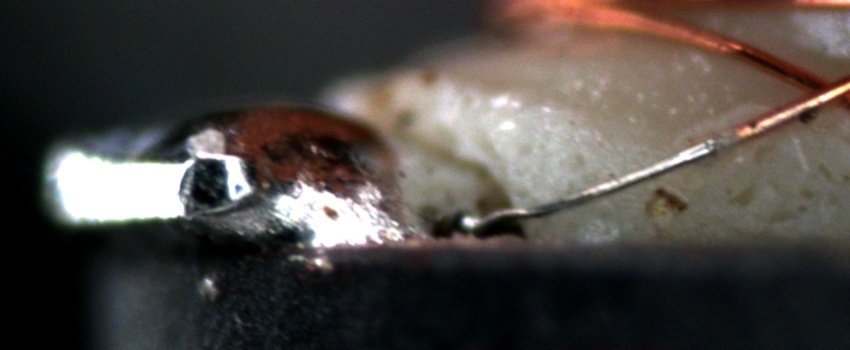CL: (779, 61, 848, 118)
TS: (454, 130, 738, 232)
TTCW: (457, 112, 771, 235)
